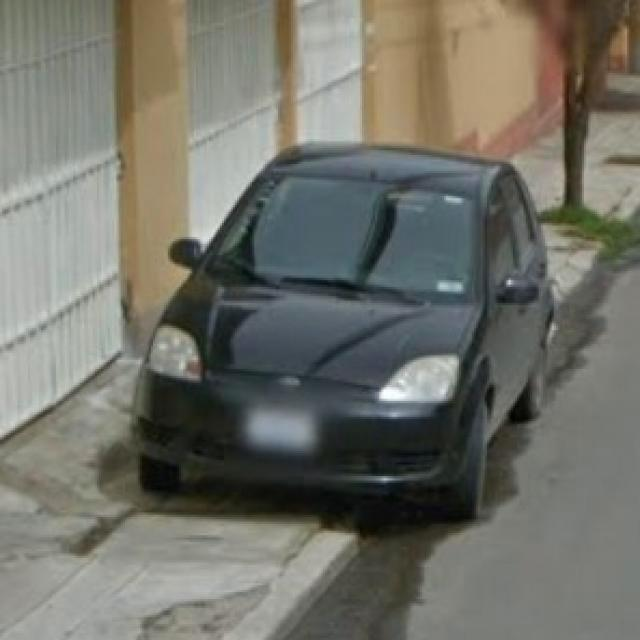Car: (127, 141, 557, 524)
